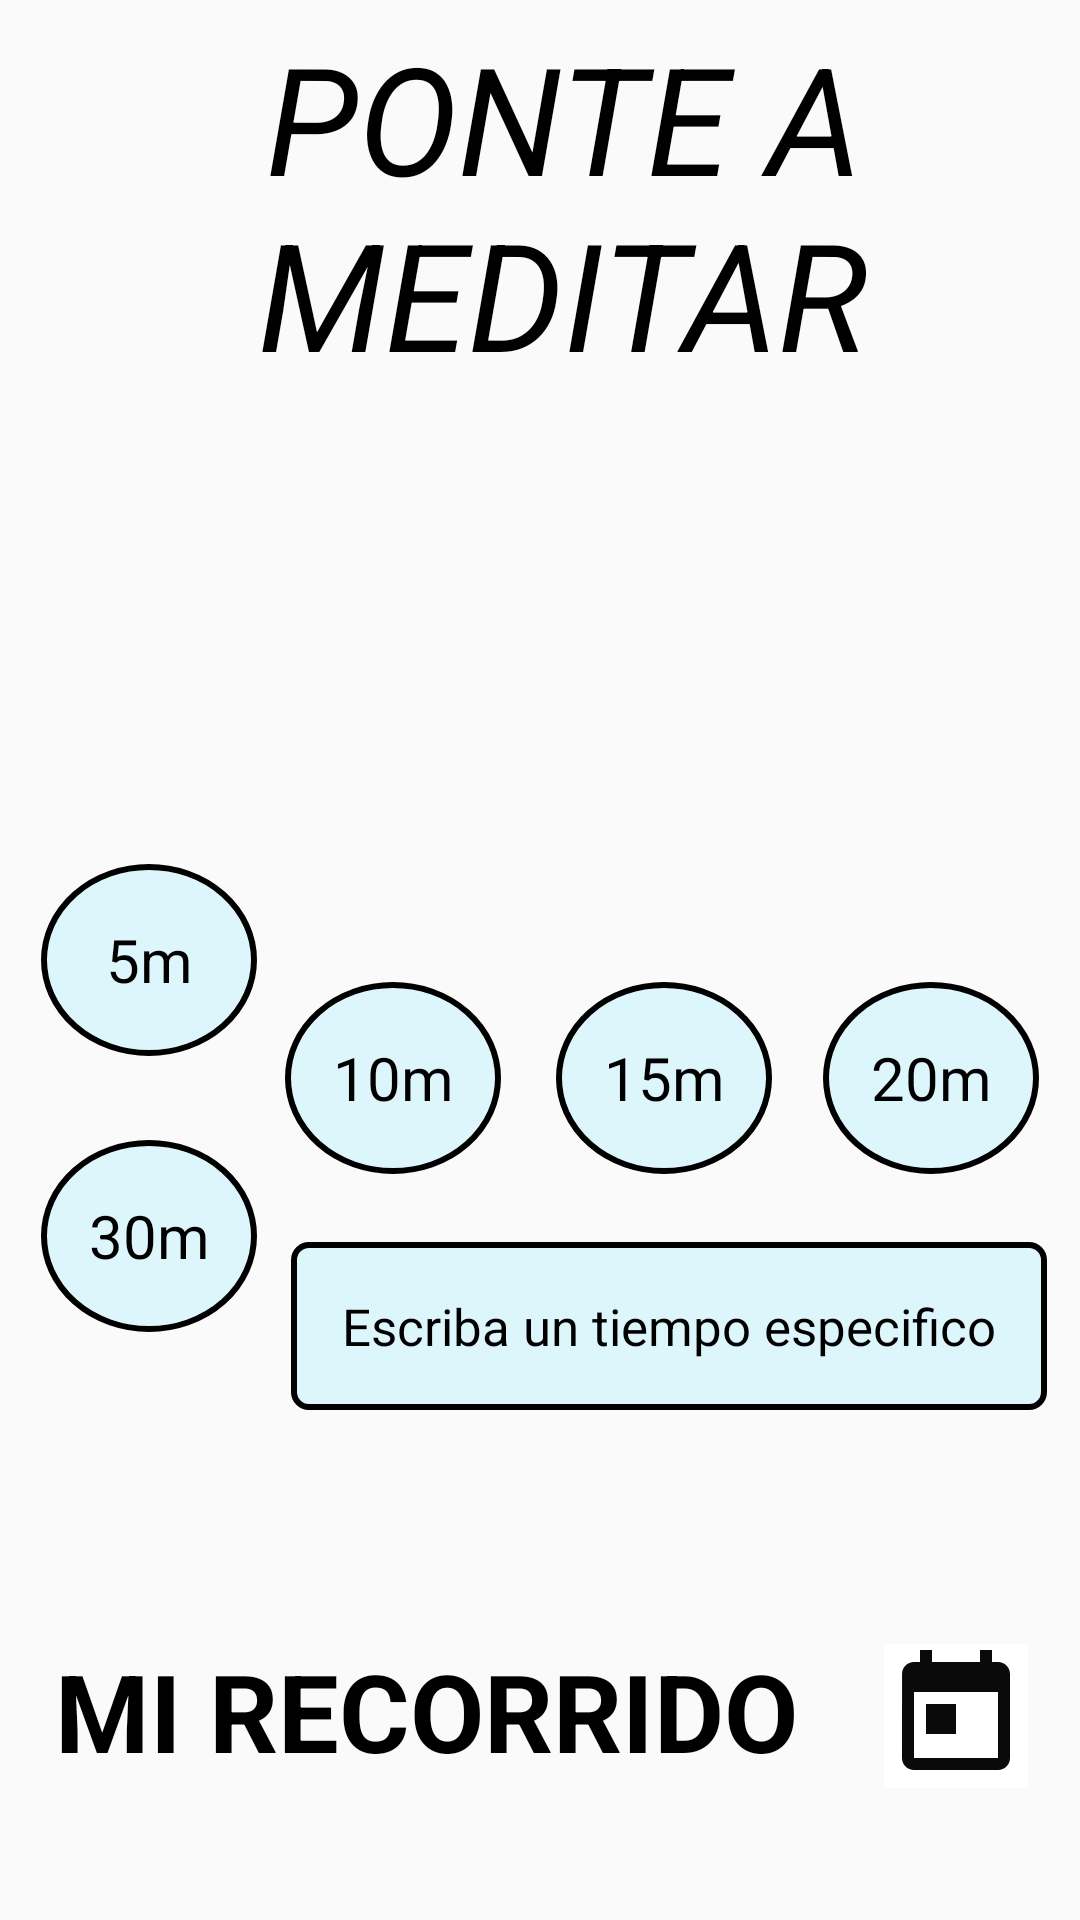

Where icons sit on this 1080x1920 app screen, as (x1, y1, x2, y2):
calendario: (902, 1650, 1010, 1770)
